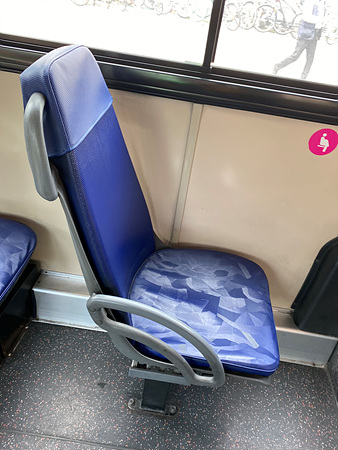seat: (23, 41, 278, 378)
